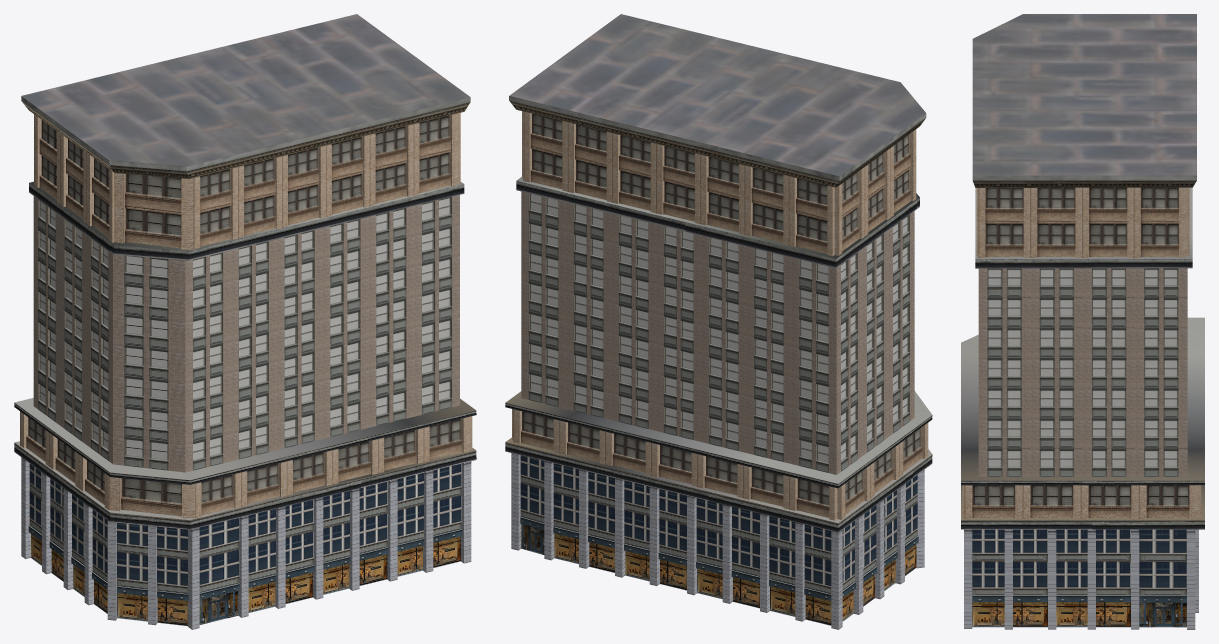
The model's file is game_ready_mid_poly_building.glb.
3 views of the same model, side by side, from view 1: azimuth 30°, elevation 25°; view 2: azimuth 150°, elevation 25°; view 3: azimuth 270°, elevation 25° (orthographic).
Visible parts, largest first — view 1: Plane.093; view 2: Plane.093; view 3: Plane.093.
Part boxes in pixels (box(x1,y1,x2,y2)): Plane.093: box(14, 14, 476, 629); Plane.093: box(505, 14, 932, 629); Plane.093: box(961, 14, 1204, 629).
Bounding box in the file's own units: 0.2544 × 0.3307 × 0.1608.
Materials: 1 (1 with a texture image).
